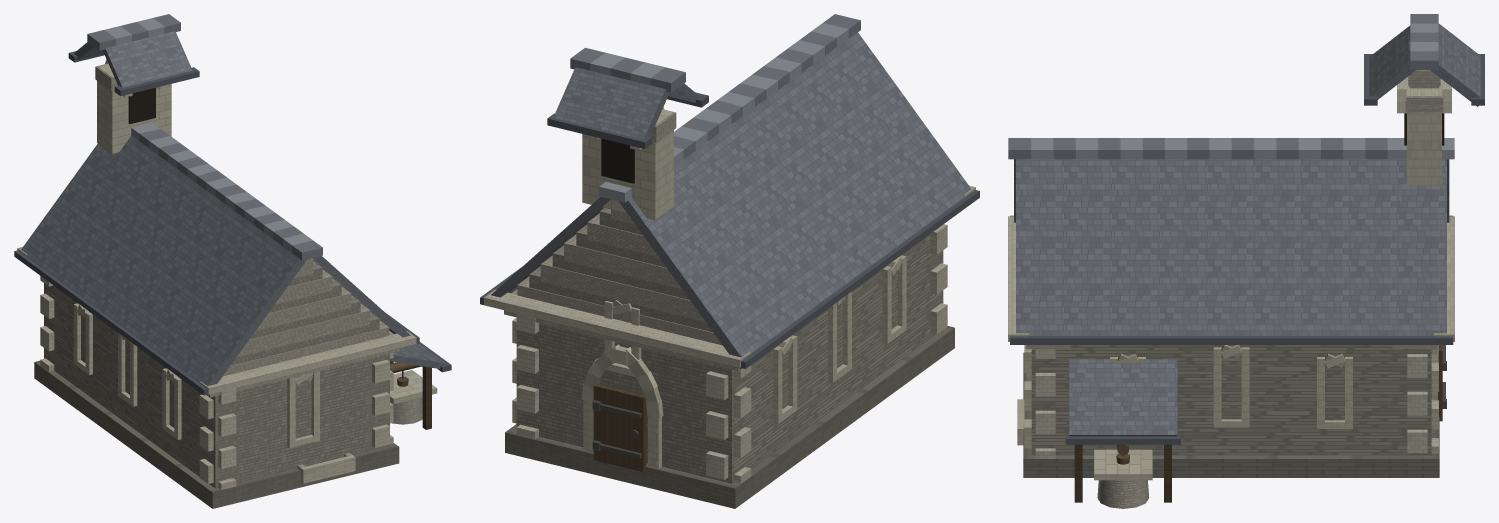
Rendered from civic-medieval-chapel-built.glb.
The picture shows the model from 3 angles, left to right: view 1: azimuth 30°, elevation 25°; view 2: azimuth 150°, elevation 25°; view 3: azimuth 270°, elevation 25°; orthographic projection. The views are drawn at different scales.
Bounding box in the file's own units: 15.55 × 18.18 × 20.27.
34 materials, 28 textured.
